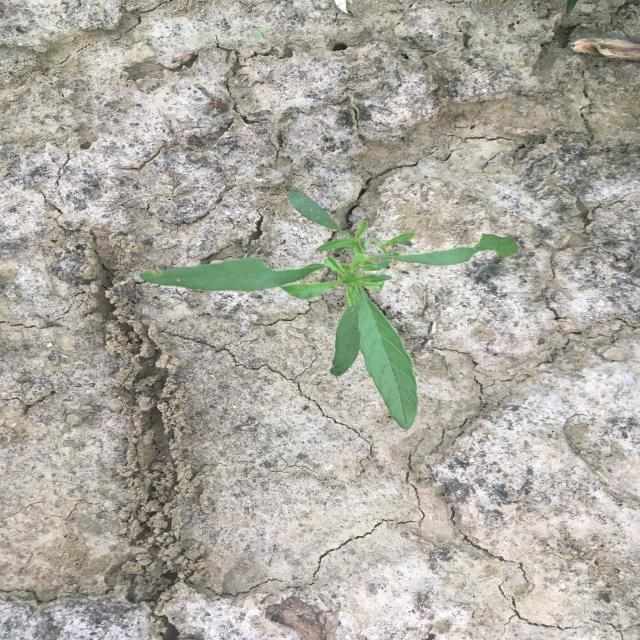Waterhemp: (138, 188, 520, 431)
